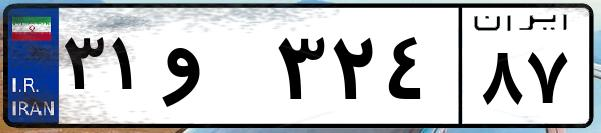1: (110, 28, 158, 98)
2: (330, 28, 385, 110)
3: (270, 28, 330, 110), (57, 26, 110, 100)
4: (385, 28, 445, 110)
7: (525, 38, 570, 115)
8: (475, 38, 525, 113)
و: (158, 20, 270, 120)
